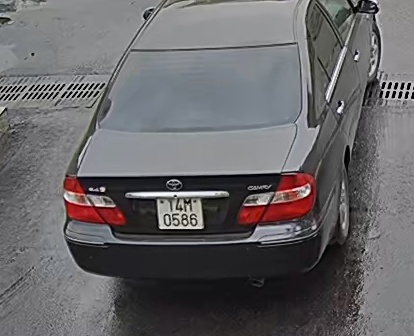vehicle plate: (154, 193, 207, 233)
